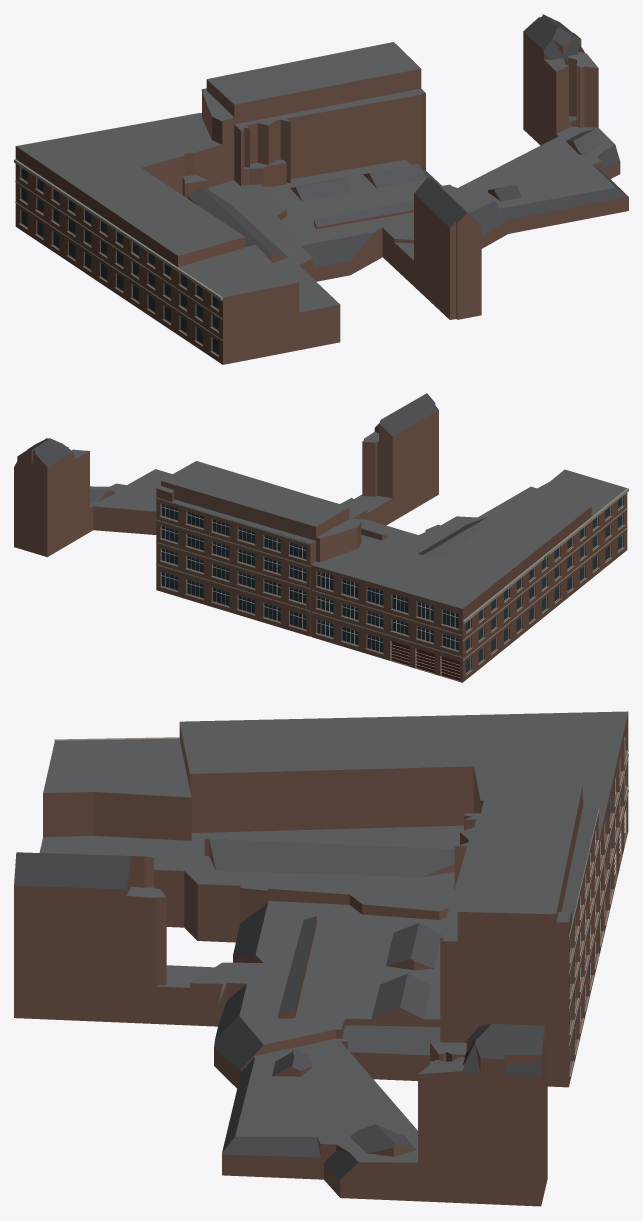
File: recipe-large-quellijnstraat-36-098847.glb
The picture shows the model from 3 angles, top to bottom: view 1: azimuth 30°, elevation 25°; view 2: azimuth 150°, elevation 25°; view 3: azimuth 270°, elevation 25°; orthographic projection. The views are drawn at different scales.
Visible parts, largest first — view 1: quellijnstraat-36-098847; view 2: quellijnstraat-36-098847; view 3: quellijnstraat-36-098847.
Boxes of the visible parts, <box> form: quellijnstraat-36-098847: <box>14,14,628,364</box>; quellijnstraat-36-098847: <box>14,393,628,682</box>; quellijnstraat-36-098847: <box>14,711,628,1206</box>.
Size of the model in its own units: 80.26 by 17.13 by 55.35.
